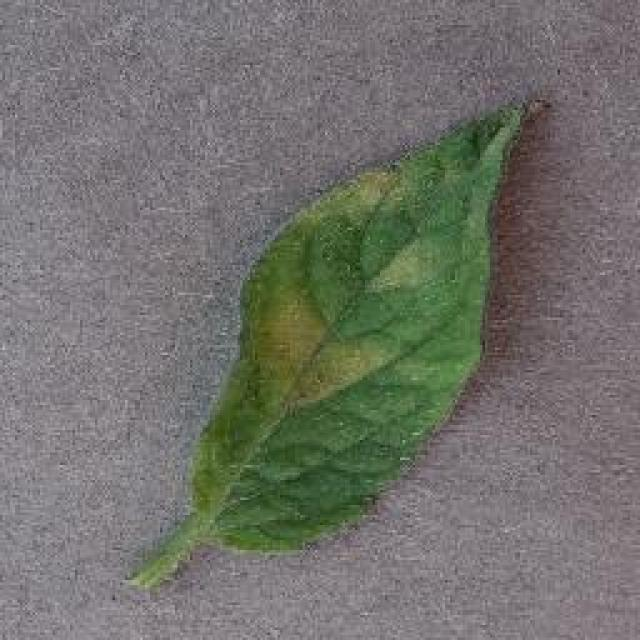Tomato___Leaf_Mold: (132, 100, 545, 582)
